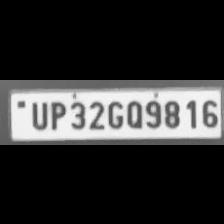1: (180, 96, 198, 128)
2: (86, 96, 104, 130)
3: (66, 96, 86, 130)
6: (198, 96, 218, 128)
8: (160, 97, 182, 129)
9: (143, 96, 161, 128)
G: (105, 97, 123, 128)
P: (46, 98, 66, 130)
Q: (124, 96, 142, 128)
U: (28, 97, 48, 128)
